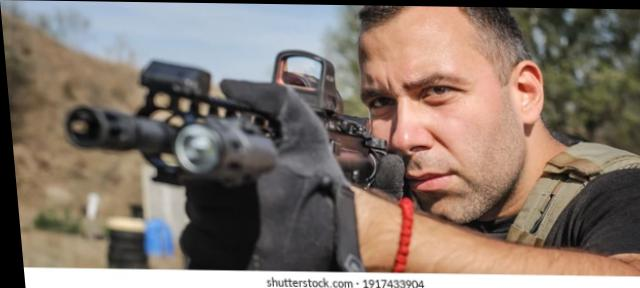other: (284, 3, 640, 259)
